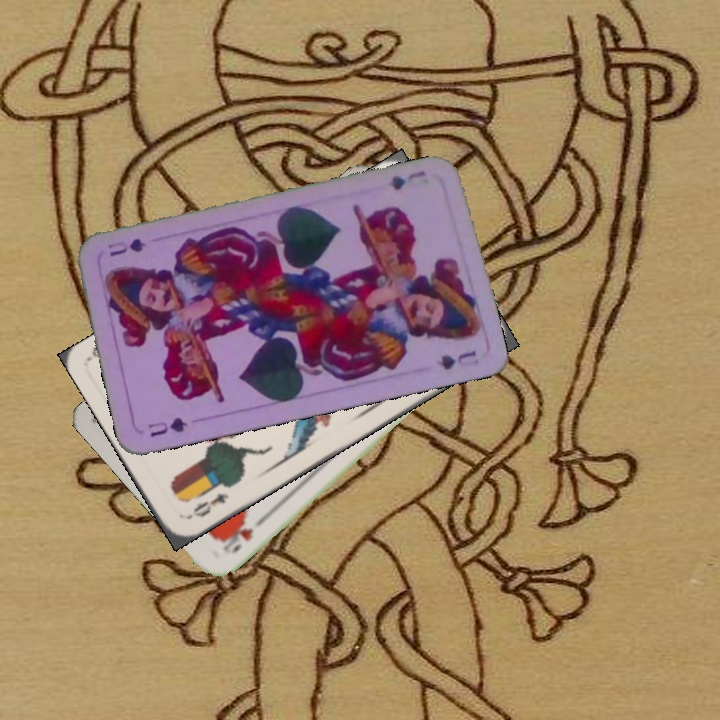EO: (184, 488, 232, 521)
GU: (143, 413, 190, 440), (384, 166, 428, 193)
HO: (217, 513, 268, 555)
